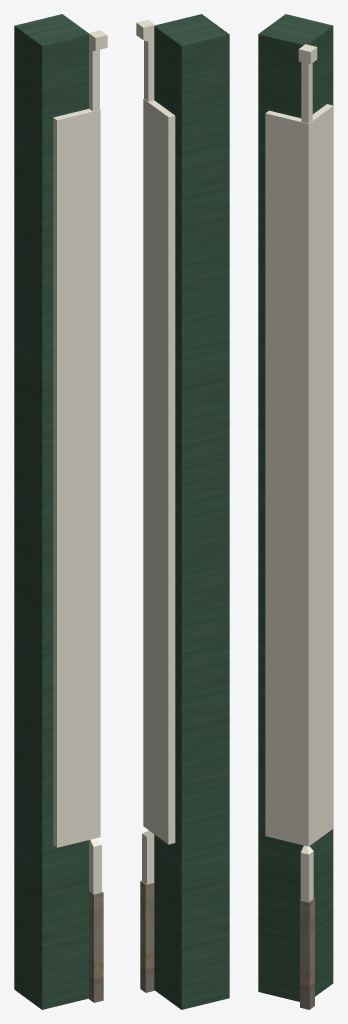
The model's file is corner.glb.
3 renders of one model, left to right at view 1: azimuth 30°, elevation 25°; view 2: azimuth 210°, elevation 25°; view 3: azimuth 330°, elevation 25°, orthographic.
Visible parts, largest first — view 1: corner_boards, corner_trim, corner_stone; view 2: corner_boards, corner_trim, corner_stone; view 3: corner_trim, corner_boards, corner_stone.
Boxes of the visible parts, x1,y1,x2,y2 form: corner_boards: (14, 14, 88, 1009); corner_trim: (53, 30, 107, 894); corner_stone: (89, 891, 103, 1002); corner_boards: (154, 14, 229, 1009); corner_trim: (136, 20, 175, 884); corner_stone: (140, 880, 154, 992); corner_trim: (265, 44, 333, 901); corner_boards: (258, 14, 333, 1001); corner_stone: (300, 898, 314, 1009).
Bounding box in the file's own units: 0.246 × 3.85 × 0.246.
Materials: 3 (2 with a texture image).
